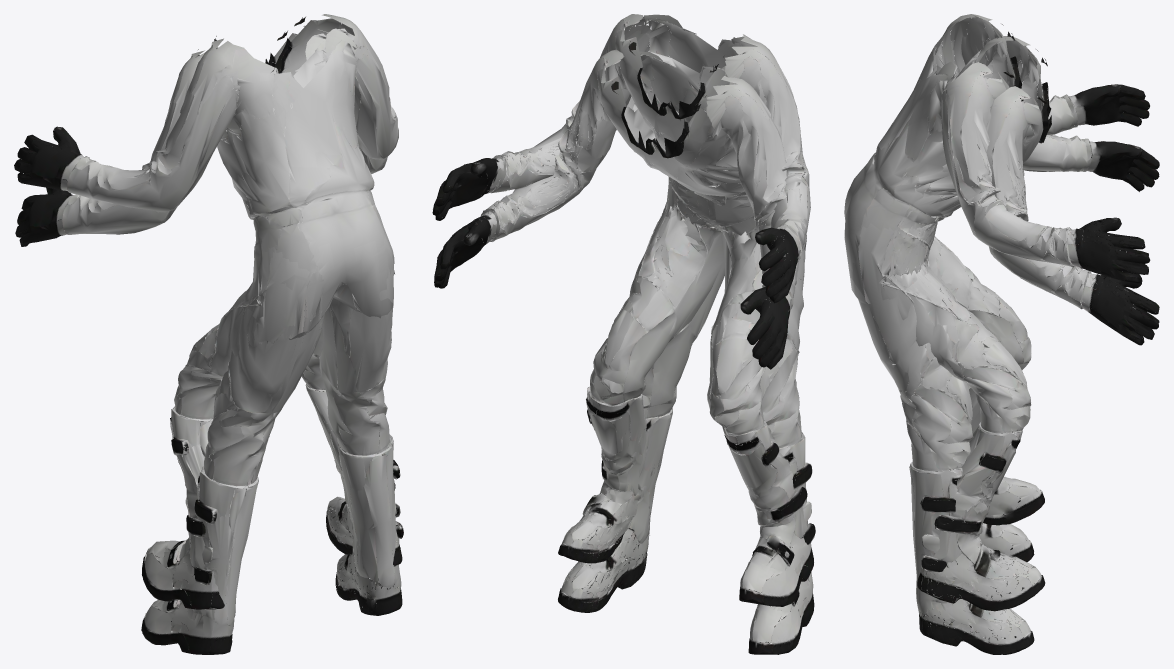
Rendered from rider_poses.glb.
3 views of the same model, side by side, from view 1: azimuth 30°, elevation 25°; view 2: azimuth 150°, elevation 25°; view 3: azimuth 270°, elevation 25° (orthographic). The views are drawn at different scales.
Parts seen in each view (by area): view 1: rider_sit, rider_stand; view 2: rider_sit, rider_stand; view 3: rider_sit, rider_stand.
Boxes of the visible parts, box(x1,y1,x2,y2) form: rider_sit: box(14, 14, 402, 609); rider_stand: box(15, 25, 403, 654); rider_sit: box(432, 14, 813, 606); rider_stand: box(434, 49, 815, 654); rider_sit: box(844, 14, 1150, 611); rider_stand: box(846, 36, 1159, 654).
Bounding box in the file's own units: 0.9046 × 1.46 × 0.7349.
Materials: 1 (1 with a texture image).
